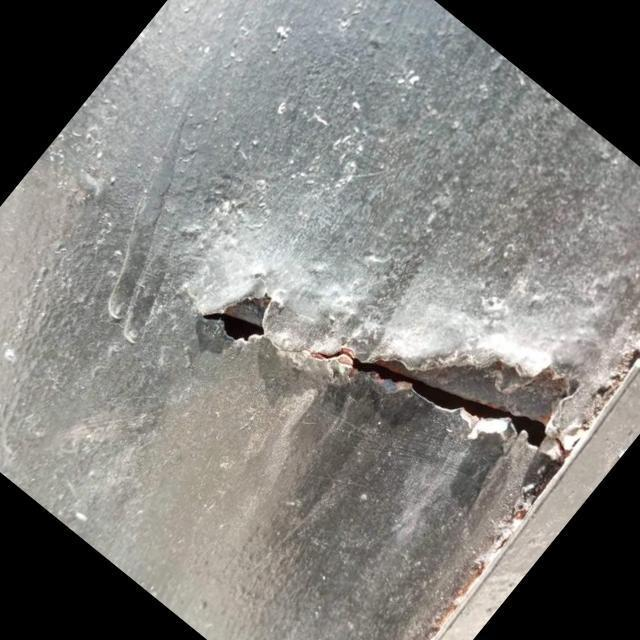defect: (197, 292, 584, 461)
